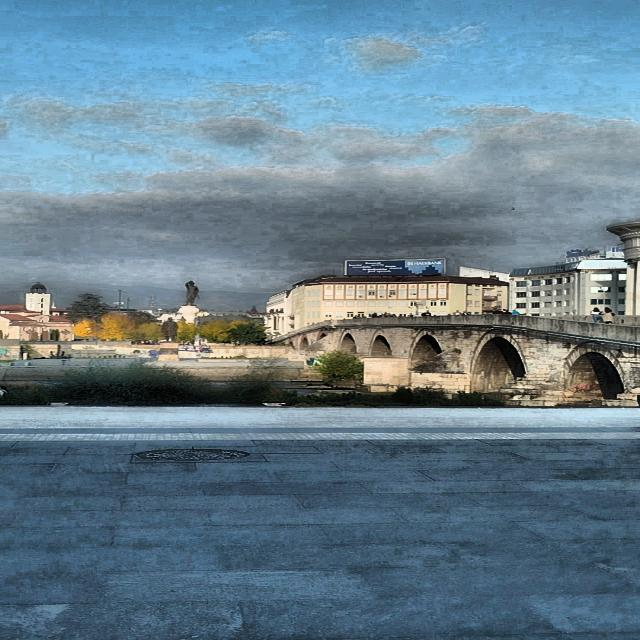Philip II of Macedonia: (170, 279, 206, 327)
stone bridge: (256, 308, 640, 405)
